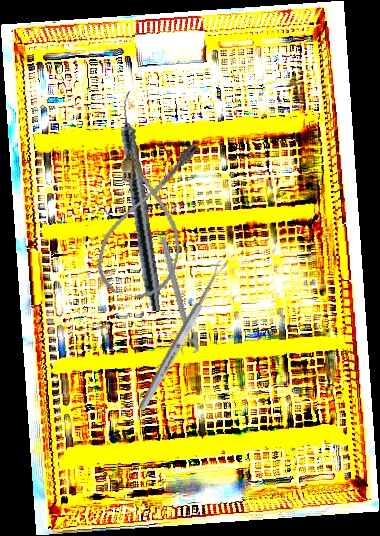Cannula: (91, 130, 204, 305)
Fixation Ring: (149, 235, 201, 357)
Handpiece: (112, 90, 169, 313)
Surgical Spoon: (136, 258, 229, 413)
